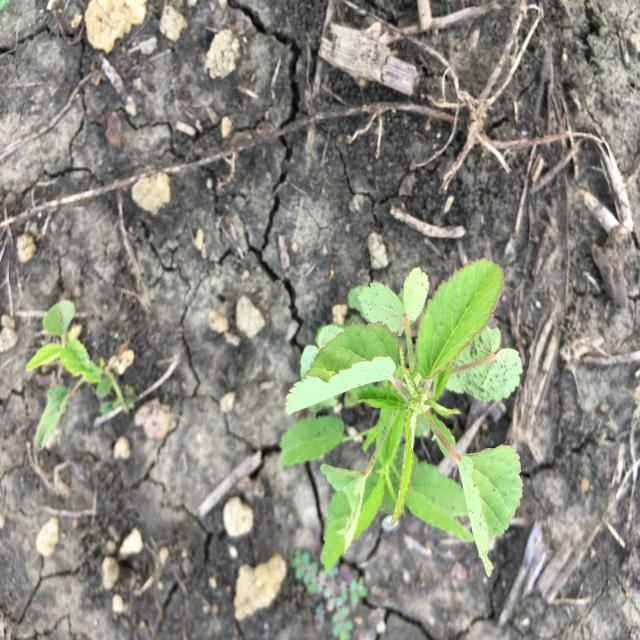PricklySida: (276, 256, 524, 582), (24, 299, 137, 452)
SpottedSpurge: (287, 546, 368, 639)
